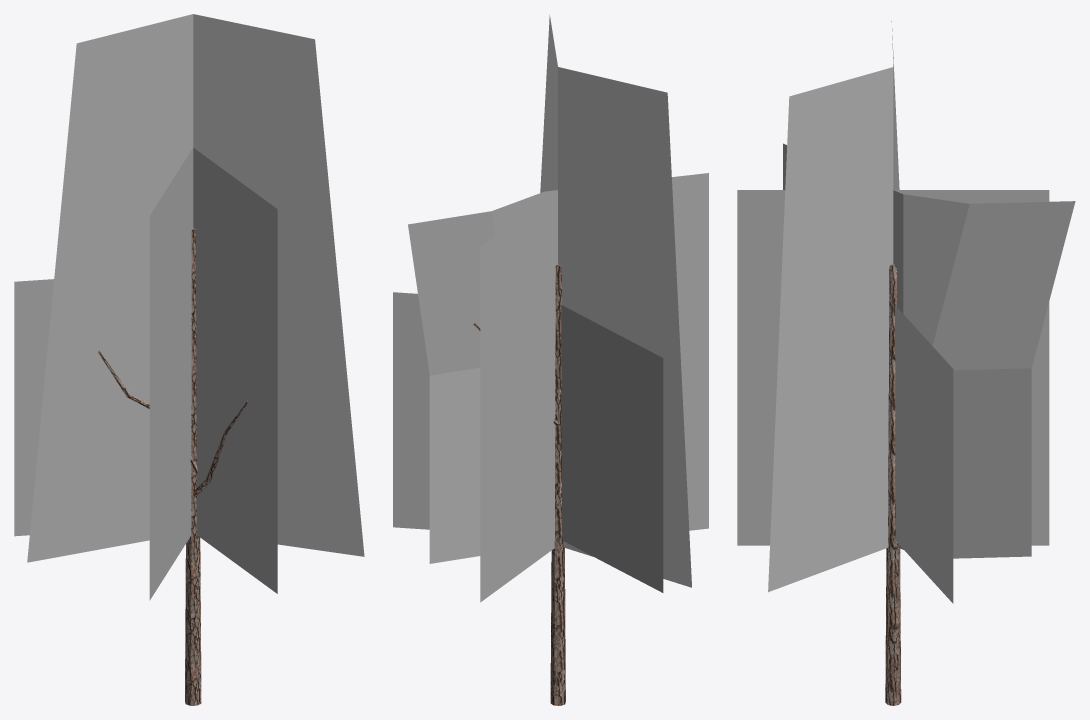
File: SM_FOL_Pine_A_01.fbx
3 views of the same model, side by side, from view 1: azimuth 30°, elevation 25°; view 2: azimuth 150°, elevation 25°; view 3: azimuth 270°, elevation 25° (orthographic). The views are drawn at different scales.
Parts seen in each view (by area): view 1: Cylinder.003; view 2: Cylinder.003; view 3: Cylinder.003.
Part boxes in pixels (x1,y1,x2,y2): Cylinder.003: (14, 14, 364, 705); Cylinder.003: (393, 15, 708, 705); Cylinder.003: (737, 21, 1075, 705).
Bounding box in the file's own units: 714 × 1558 × 751.
